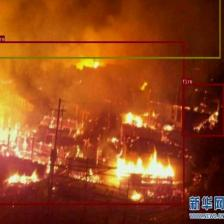fire: (0, 41, 184, 205), (182, 83, 224, 136)
smoke: (0, 0, 220, 58)
